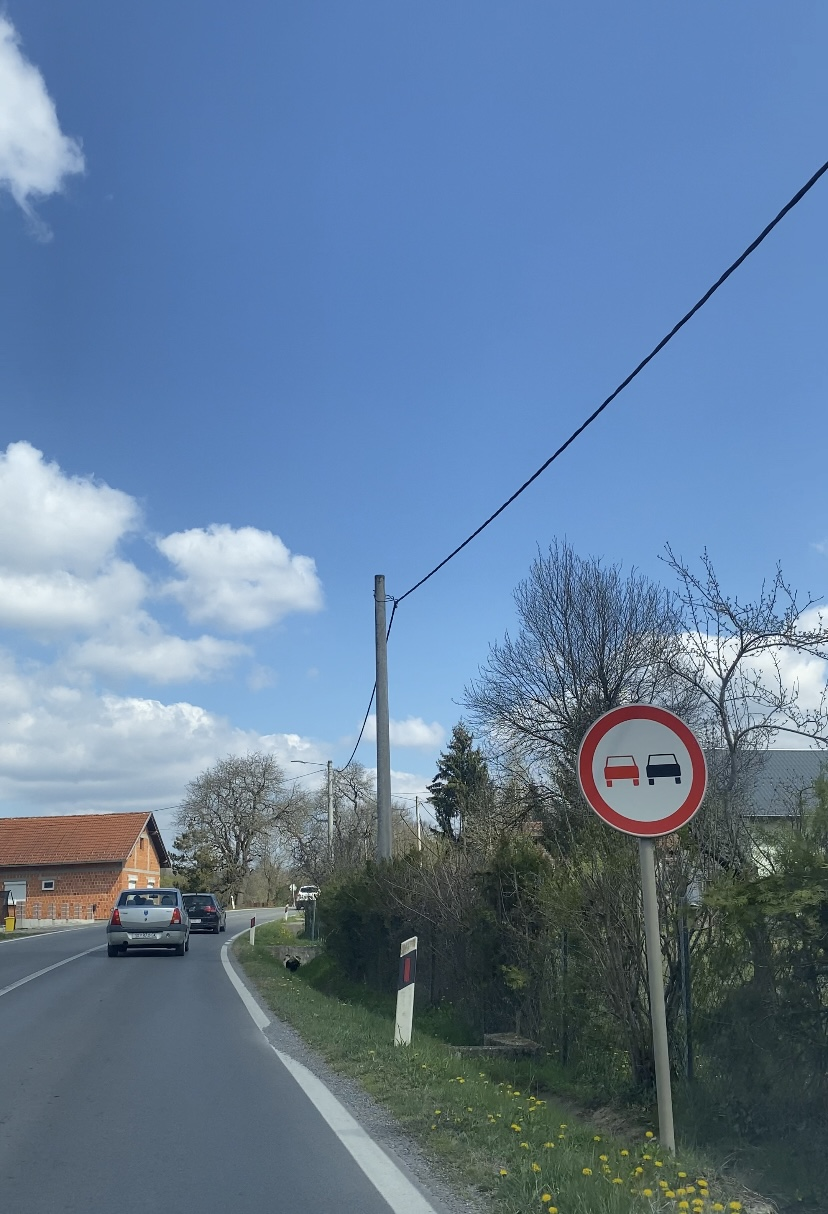Zabrana pretjecanja: (576, 703, 708, 837)
